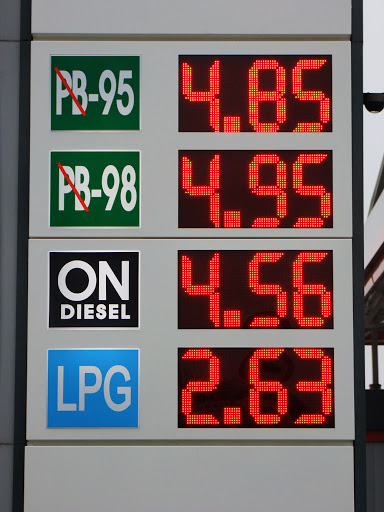LPG: (45, 348, 137, 426)
ON: (48, 251, 139, 324)
PB95: (47, 53, 141, 131)
PB98: (49, 149, 142, 227)
